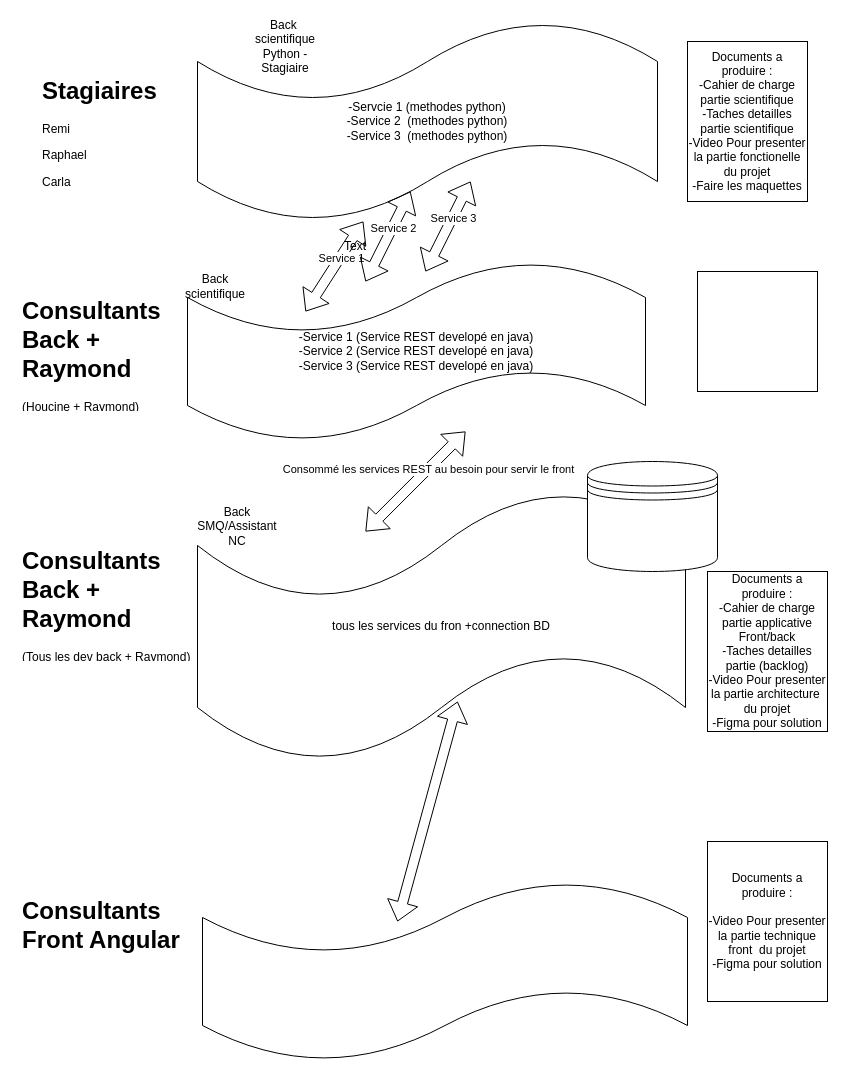
Image size: 845x1079. Some labels were removed from this diagram. Each missing label, with the centre of its shape:
BD Azure: point (652, 516)
Documents a produire : -Cahier de charge des services exposé: point (757, 331)
Front Angular: point (445, 971)
